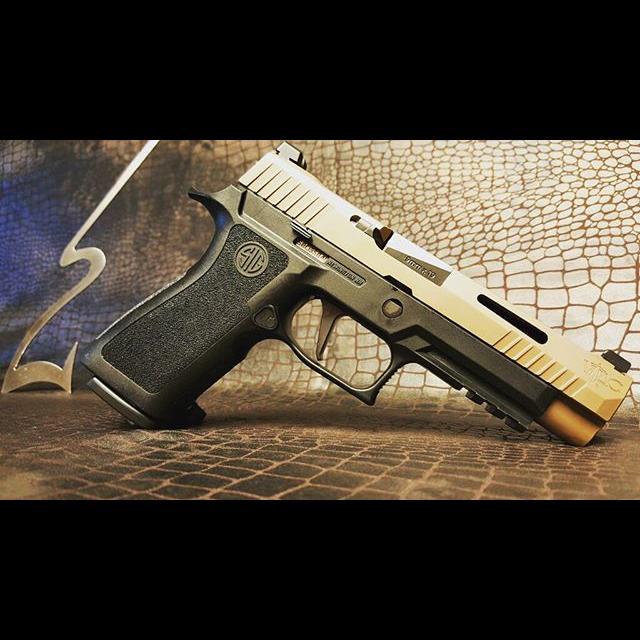handgun: (75, 140, 635, 448)
